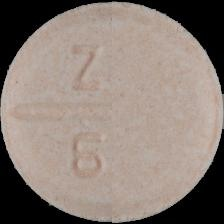68382-019: (0, 0, 224, 224)
